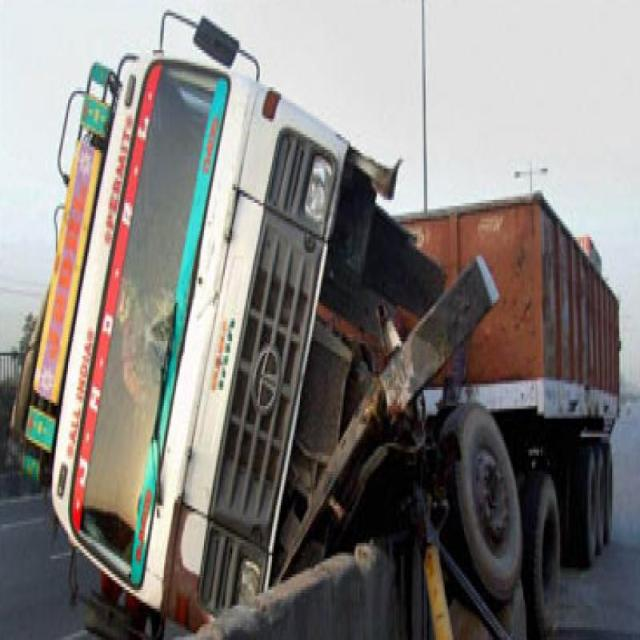accident: (11, 51, 620, 638)
